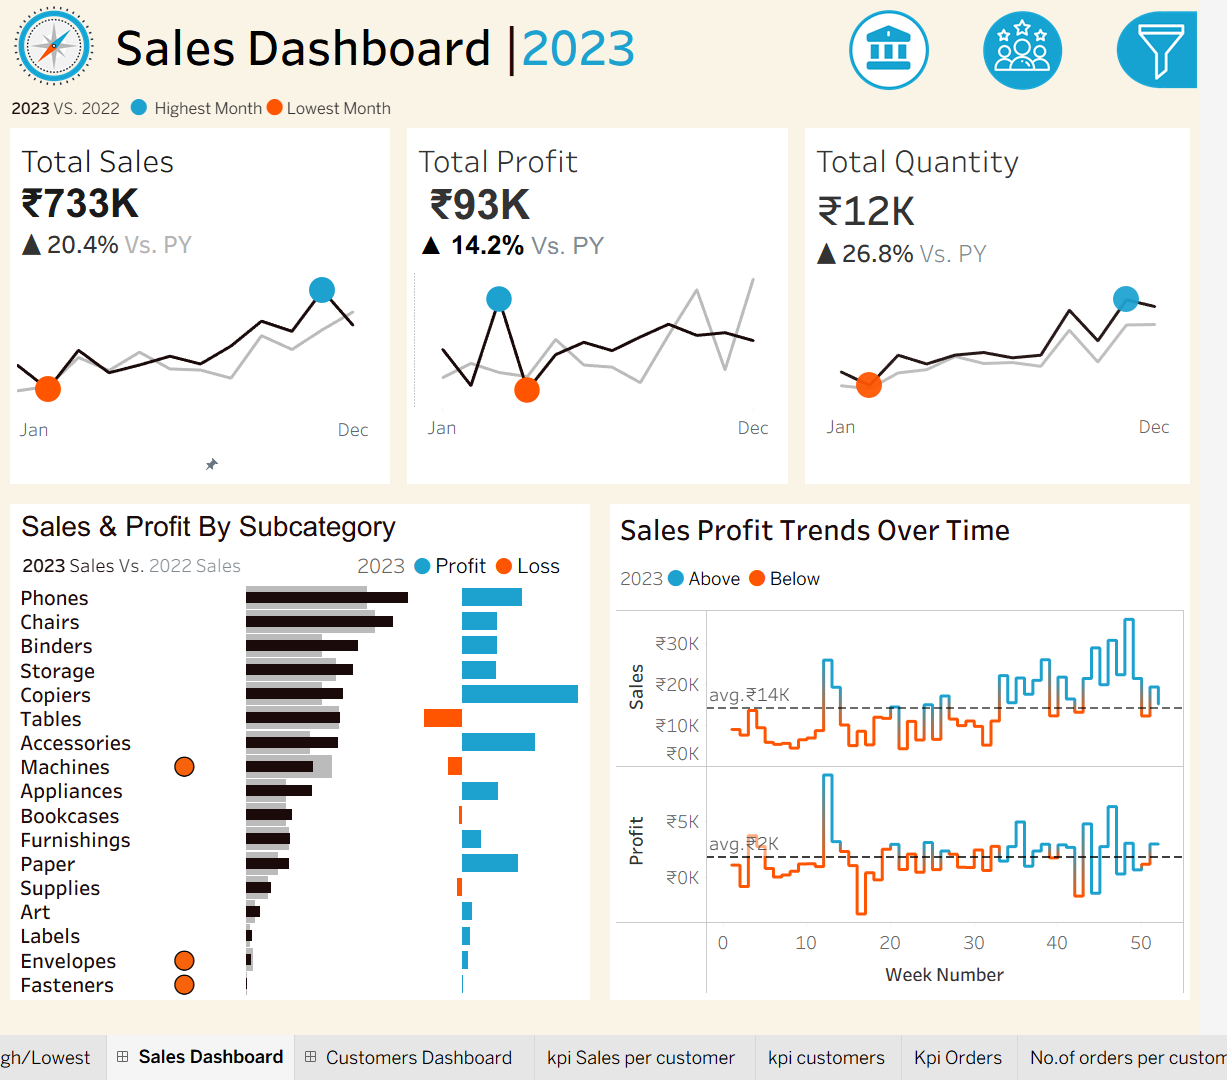

Layout of this report page (visuals, bound fields, positions):
{"tool":"tableau","page":{"name":" Sales Dashboard","canvas":[1200,1200],"ordinal":1},"visuals":[{"type":"image","param":"Image/Icon - Logo.png","box":[0,0,107,92]},{"type":"text","box":[107,0,1093,92]},{"type":"dashboard-object","box":[822,5,134,90]},{"type":"dashboard-object","box":[956,5,133,90]},{"type":"worksheet","title":" High/Lowest","mark":"Automatic","box":[0,92,1200,32]},{"type":"worksheet","title":" kpi sales","mark":"Automatic","rows":["Calculation_0659727686275079"],"cols":["Order Date"],"box":[0,124,400,370]},{"type":"worksheet","title":" kpi profit","mark":"Automatic","rows":["Min & Max  (copy)_0854616379498503"],"cols":["Order Date"],"box":[400,124,400,370]},{"type":"worksheet","title":" kpi quantity","mark":"Automatic","rows":["Min & Max  (Profit) (copy)_0854616393015314"],"cols":["Order Date"],"box":[800,124,400,370]},{"type":"text","box":[10,504,580,45]},{"type":"text","box":[612,506,576,45.2]},{"type":"worksheet","title":" Legends","mark":"Automatic","box":[10,549,339,32]},{"type":"text","box":[349,549,241,32]},{"type":"text","box":[612,551.2,576,55.1]},{"type":"worksheet","title":" Subcategory By comparison","mark":"Bar","rows":["Sub-Category","Calculation_0854616408158229"],"cols":["Calculation_0659727652159493","Calculation_0659727651766276"," CY Sales (copy)_0854616385409034"],"box":[10,581,580,418.8]},{"type":"worksheet","title":" Weekly Trends ","mark":"Automatic","rows":["Calculation_0659727651766276"," CY Sales (copy)_0854616385409034"],"cols":["Order Date"],"box":[612,606.3,576,391.7]}]}

Visuals, with their boxes on the page's 1200x1200 design canvas (x1, y1, x2, y2). These are canvas units, not pixel positions in the 1227x1080 screenshot, which may show the page scaled, cropped or inside an application window:
image: locate(0, 0, 107, 92)
text: locate(107, 0, 1200, 92)
dashboard-object: locate(822, 5, 956, 95)
dashboard-object: locate(956, 5, 1089, 95)
" High/Lowest" worksheet: locate(0, 92, 1200, 124)
" kpi sales" worksheet: locate(0, 124, 400, 494)
" kpi profit" worksheet: locate(400, 124, 800, 494)
" kpi quantity" worksheet: locate(800, 124, 1200, 494)
text: locate(10, 504, 590, 549)
text: locate(612, 506, 1188, 551)
" Legends" worksheet: locate(10, 549, 349, 581)
text: locate(349, 549, 590, 581)
text: locate(612, 551, 1188, 606)
" Subcategory By comparison" worksheet (Bar marks): locate(10, 581, 590, 1000)
" Weekly Trends " worksheet: locate(612, 606, 1188, 998)
